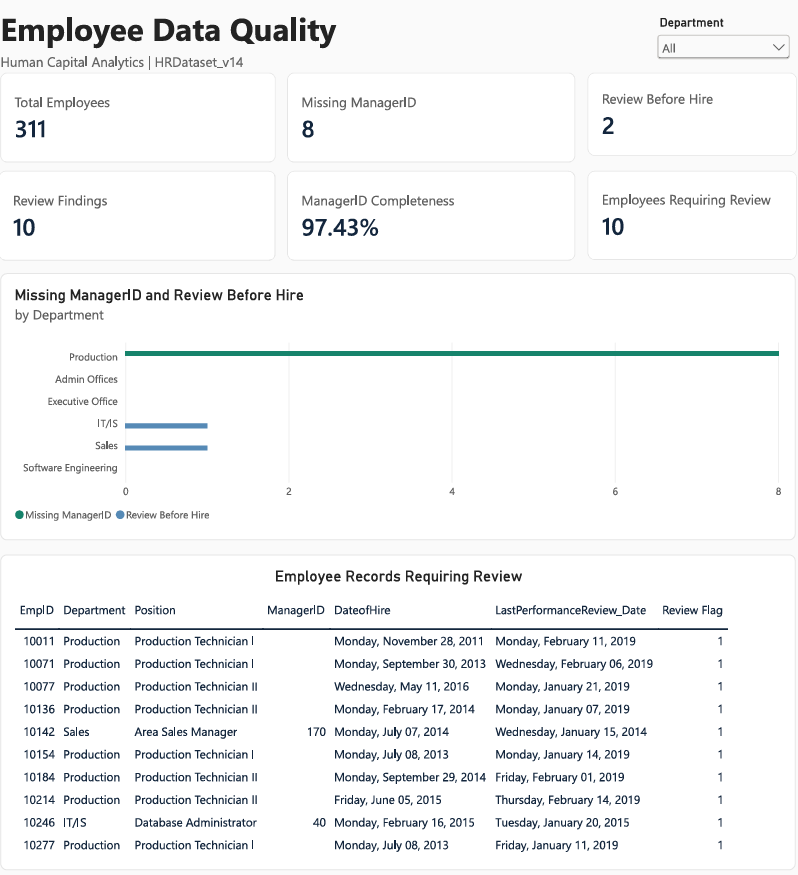

The dashboard page shown, as its layout file describes it:
{"tool":"powerbi","page":{"name":"Page 1","canvas":[1920,1080],"ordinal":0},"visuals":[{"type":"cardVisual","fields":{"Data":["Employees.Review Before Hire"]},"box":[705,88.3,248.8,98.8],"z":0},{"type":"cardVisual","fields":{"Data":["Employees.Review Findings"]},"box":[3.3,205,330,106.7],"z":1000},{"type":"cardVisual","fields":{"Data":["Employees.ManagerID Completeness"]},"box":[346.7,205,343.3,106.7],"z":2000},{"type":"cardVisual","fields":{"Data":["Employees.Employees Requiring Review"]},"box":[705,205,248.8,106.2],"z":3000},{"type":"clusteredBarChart","fields":{"Category":["Employees.Department"],"Y":["Employees.Missing ManagerID","Employees.Review Before Hire"]},"box":[5,326.7,948.3,318.3],"z":4000},{"type":"tableEx","title":"Employee Records Requiring Review","fields":{"Values":["Employees.EmpID","Employees.Department","Employees.Position","Employees.ManagerID","Employees.DateofHire","Employees.LastPerformanceReview_Date","Employees.Review Flag"]},"box":[5,661.7,948.3,376.7],"z":5000},{"type":"cardVisual","fields":{"Data":["Employees.Total Employees"]},"box":[5,88.3,328.3,106.7],"z":6000},{"type":"cardVisual","fields":{"Data":["Employees.Missing ManagerID"]},"box":[346.7,88.3,343.3,106.7],"z":7000},{"type":"slicer","fields":{"Values":["Employees.Department"]},"box":[782.5,20,168.8,53.8],"z":8000},{"type":"textbox","box":[5,10,440,63.3],"z":9000},{"type":"textbox","box":[5,63.8,320,50],"z":10000}]}

Visuals, with their boxes on the page's 1920x1080 design canvas (x1, y1, x2, y2). These are canvas units, not pixel positions in the 798x875 screenshot, which may show the page scaled, cropped or inside an application window:
cardVisual - Employees.Review Before Hire: crop(705, 88, 954, 187)
cardVisual - Employees.Review Findings: crop(3, 205, 333, 312)
cardVisual - Employees.ManagerID Completeness: crop(347, 205, 690, 312)
cardVisual - Employees.Employees Requiring Review: crop(705, 205, 954, 311)
clusteredBarChart - Employees.Department x Employees.Missing ManagerID: crop(5, 327, 953, 645)
"Employee Records Requiring Review" tableEx: crop(5, 662, 953, 1038)
cardVisual - Employees.Total Employees: crop(5, 88, 333, 195)
cardVisual - Employees.Missing ManagerID: crop(347, 88, 690, 195)
slicer - Employees.Department: crop(782, 20, 951, 74)
textbox: crop(5, 10, 445, 73)
textbox: crop(5, 64, 325, 114)
